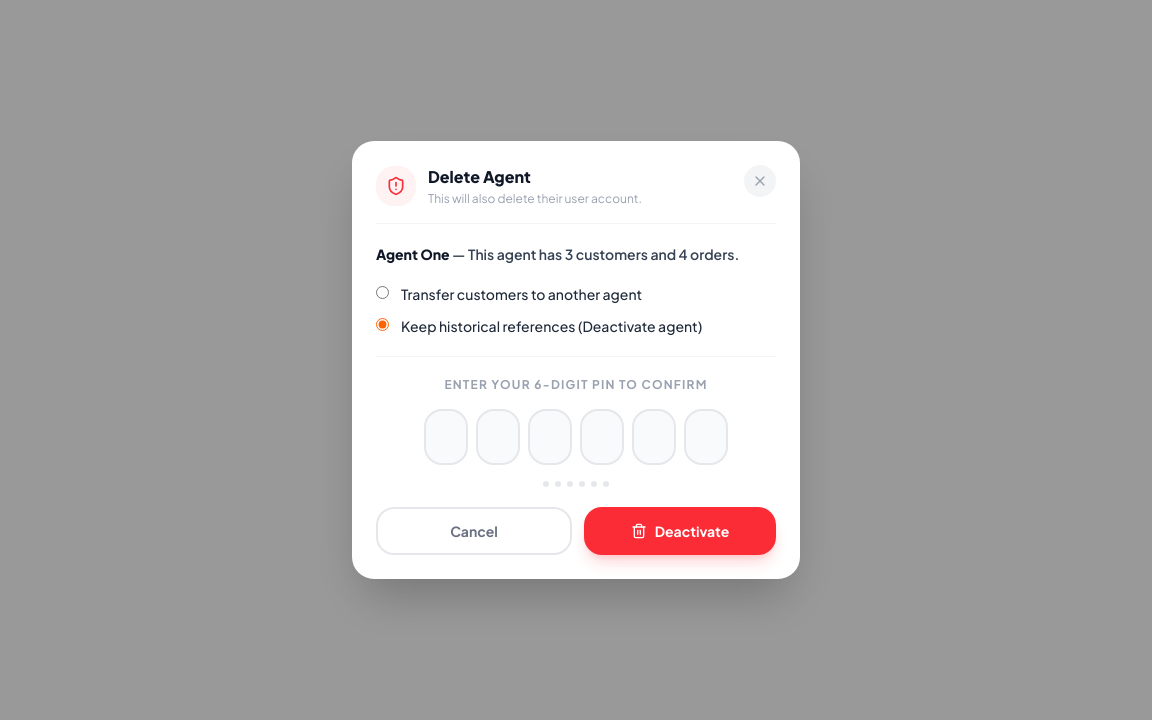
DeleteWithTransferDialog PIN flow › clears the incomplete-PIN message as soon as a digit is entered
The image size is (1152, 720).
Expected: the text "Enter your 6-digit PIN to confirm" is shown, [444,377,708,392]
Click the button "Deactivate" at (680, 531), box [584,507,776,555]
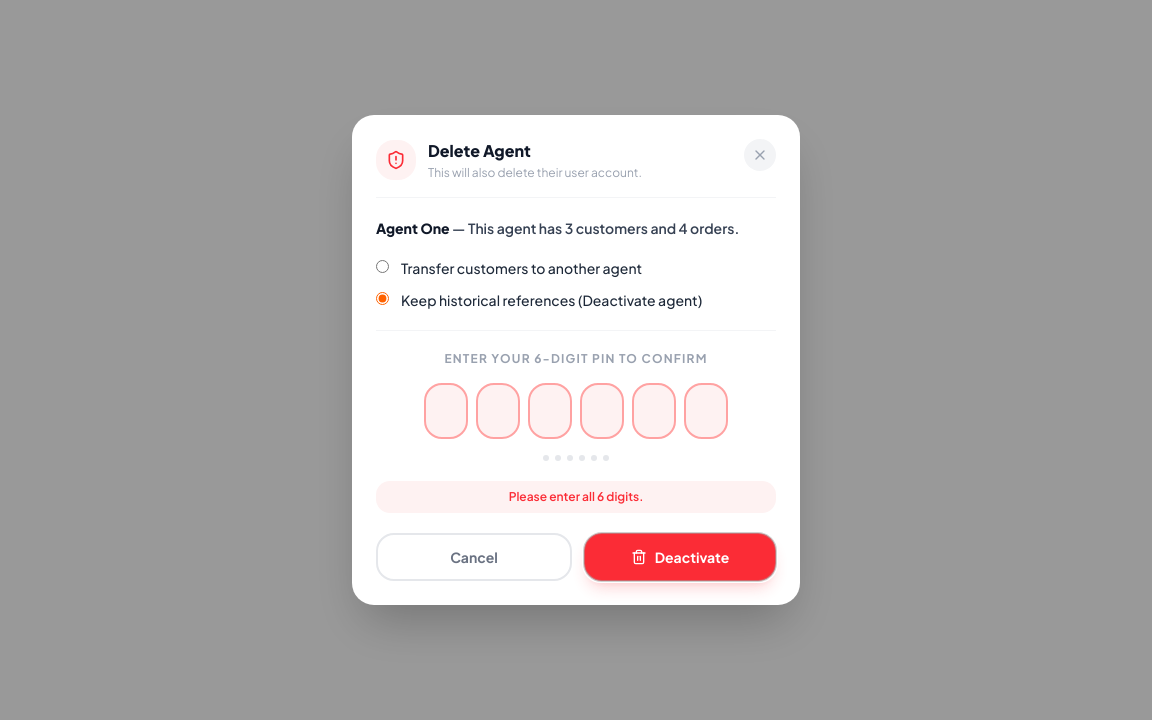
Result: the text "Please enter all 6 digits." is shown at [376,481,776,513]
Type "1" into the 1st password field at (446, 411), box [424,383,468,439]
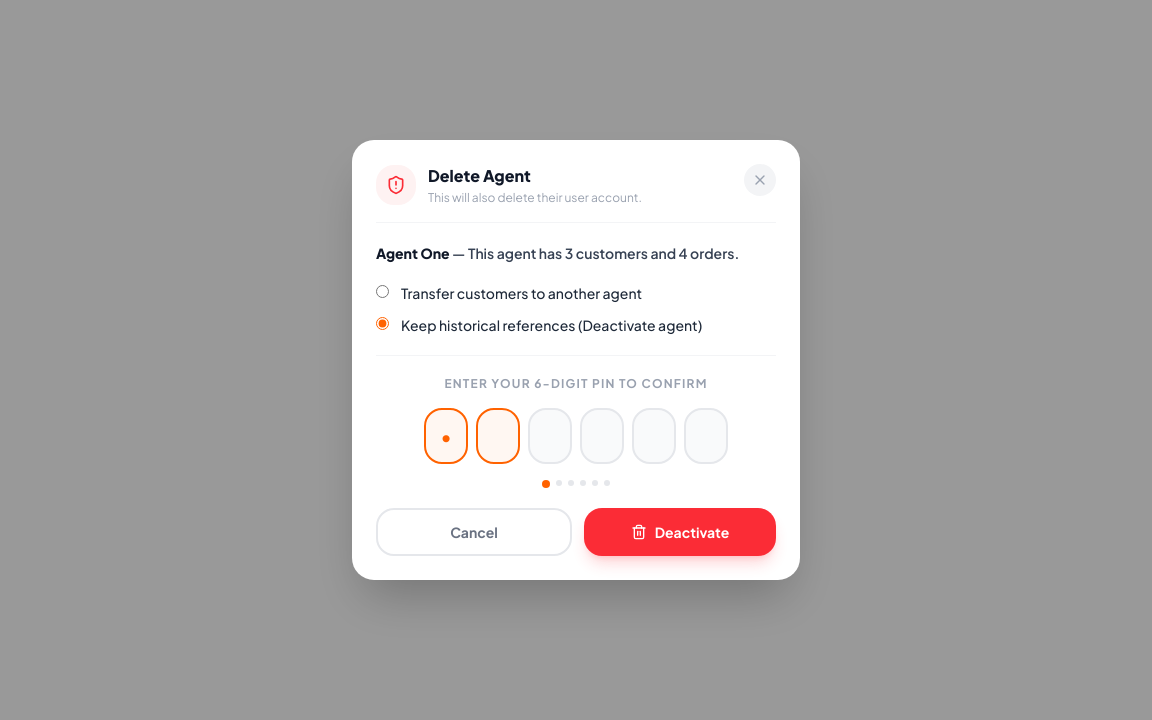
Result: the text "Please enter all 6 digits." is gone
